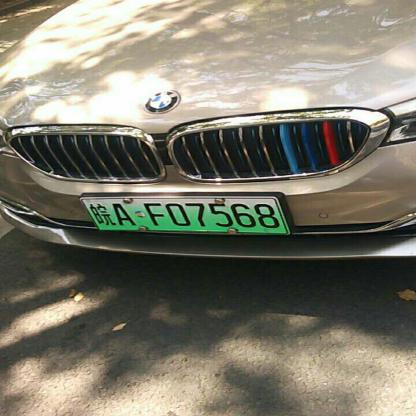lp: (79, 199, 288, 234)
